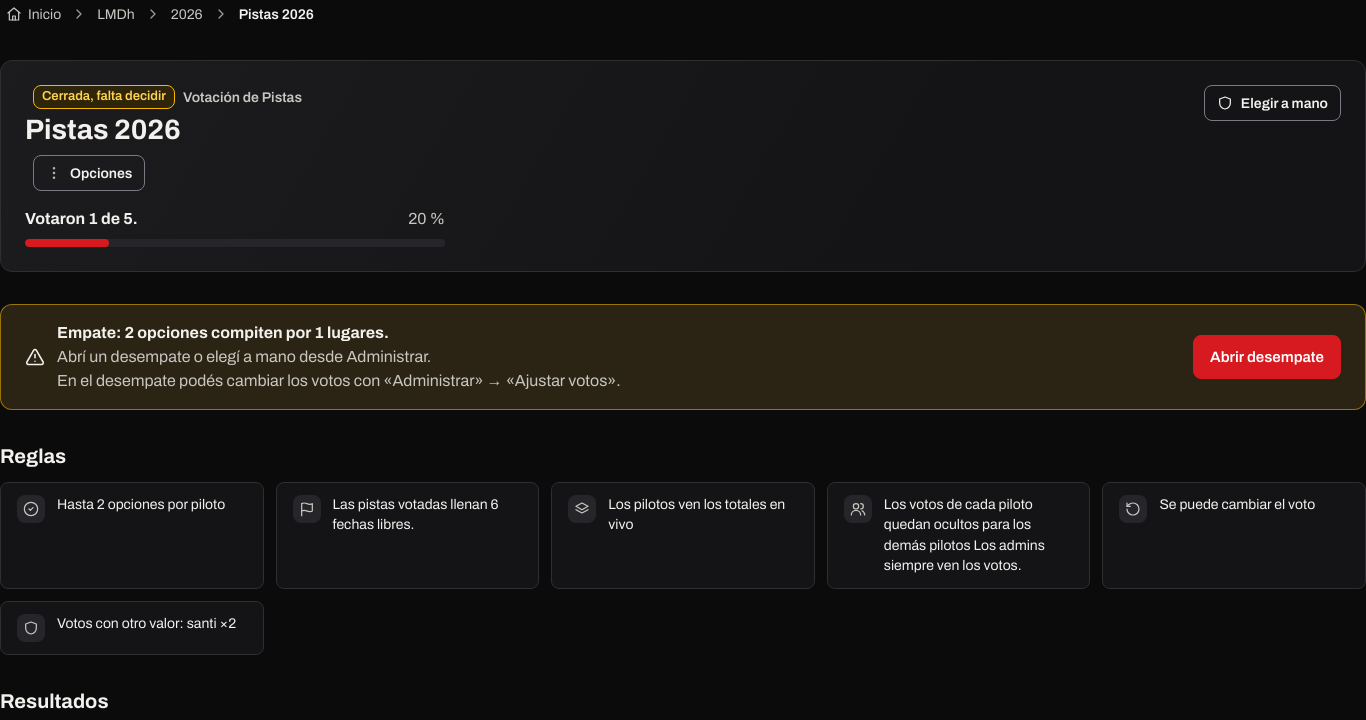
Test: BallotPage › shows the tie and the runoff button to an admin
Check: the text "Empate: 2 opciones compiten por 1 lugares." is shown, box [57,324,389,341]
Check: the button "Abrir desempate" is shown, box [1193,335,1341,379]
Click the button "Elegir a mano": x=1272, y=103 [1204,85,1341,121]
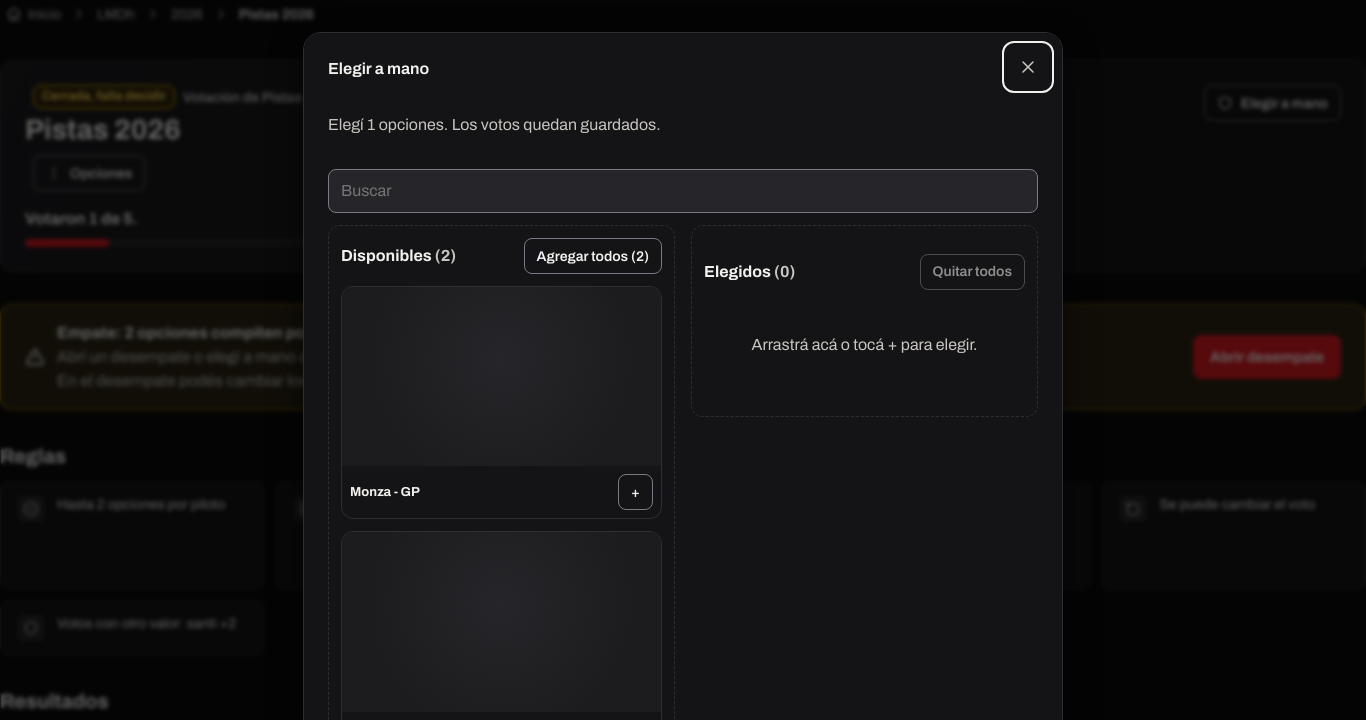
Check: the number of buttons "+" is 2
